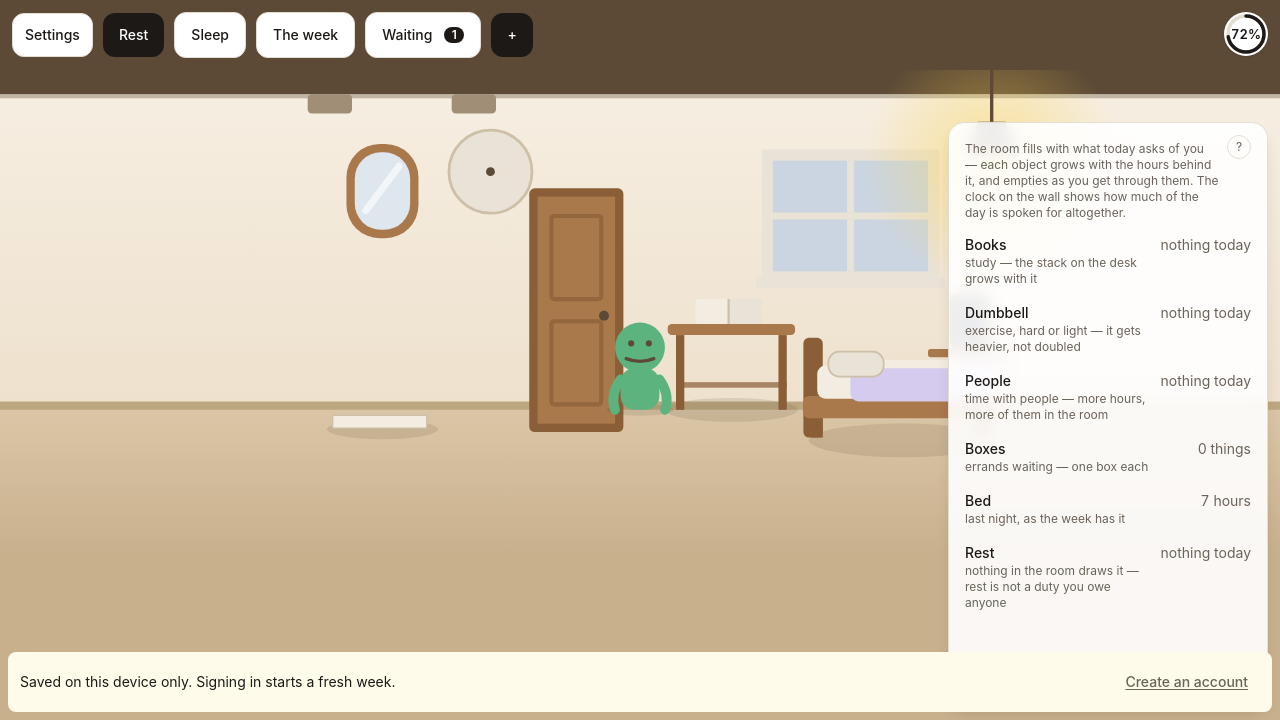
Test case: the Rest button › opens a preview rather than changing the week
Click the button with test id "open-rest" at (134, 35), box [103,13,164,57]
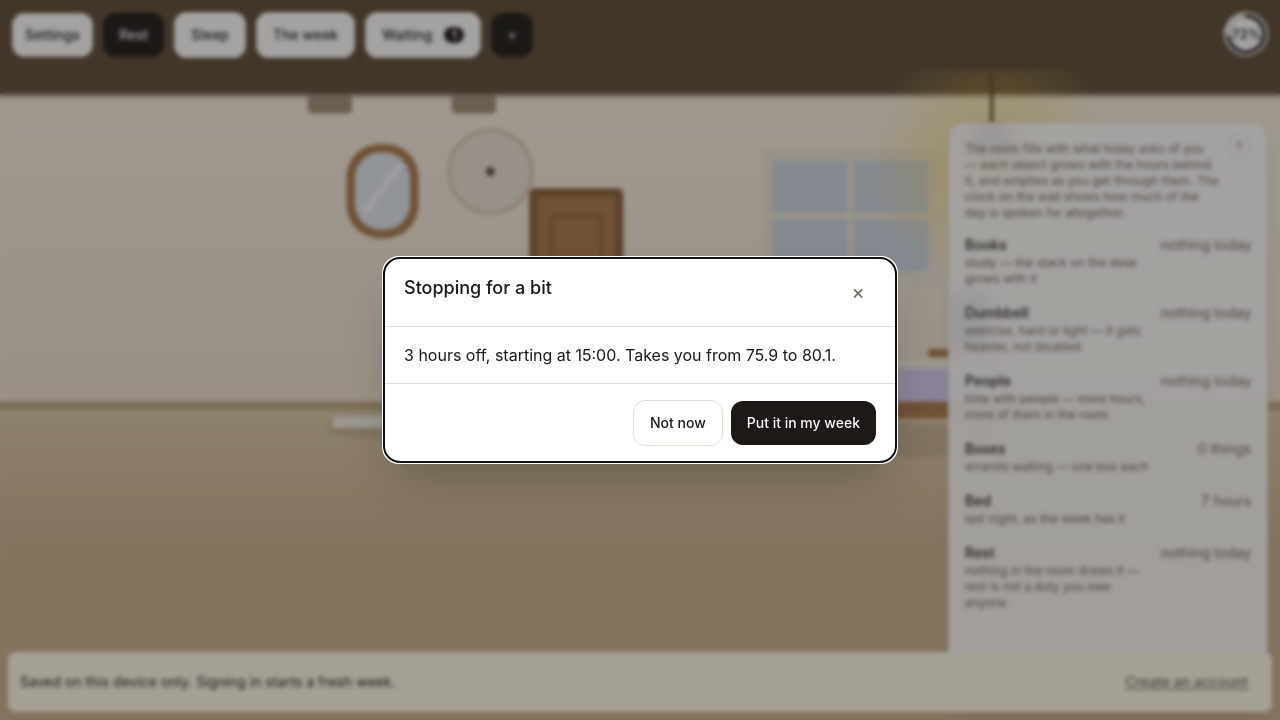
Check: the text "3 hours off, starting at 15:00. Takes you from 75.9 to 80.1." is shown, box [404,343,876,367]
